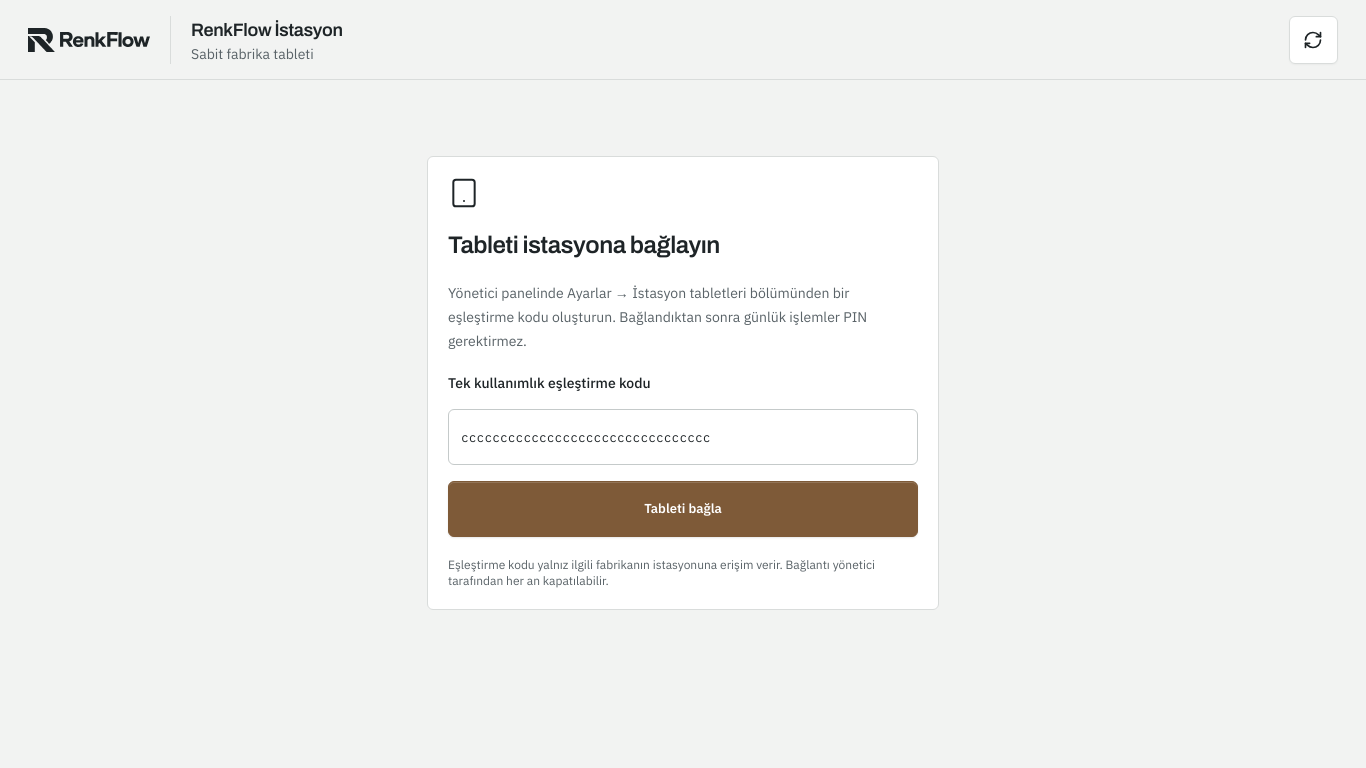
Test: ignores a response from the previous device even after the replacement device has paired successfully
Step 1. Click the button "Tableti bağla" → (683, 509), box [448, 481, 918, 537]
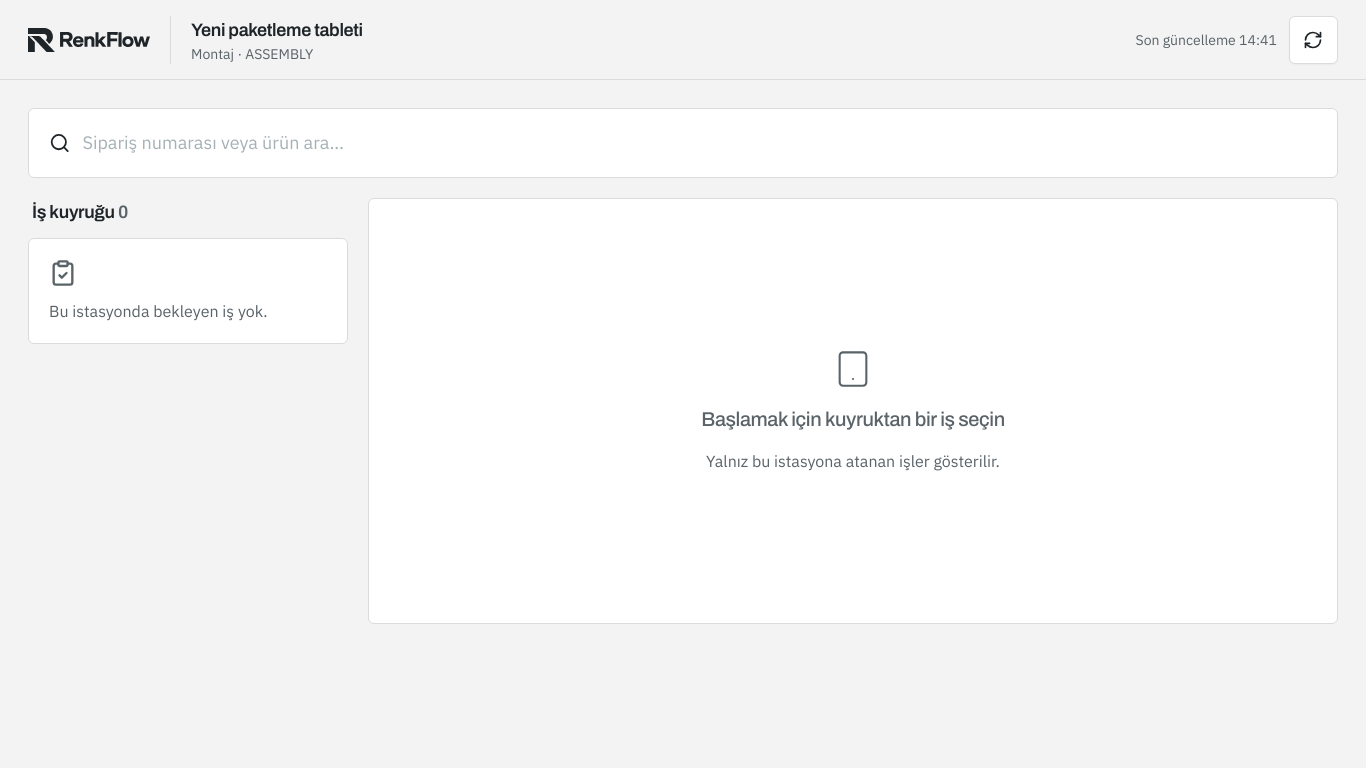
Check: the heading "Yeni paketleme tableti" is shown, box [191, 16, 363, 44]
